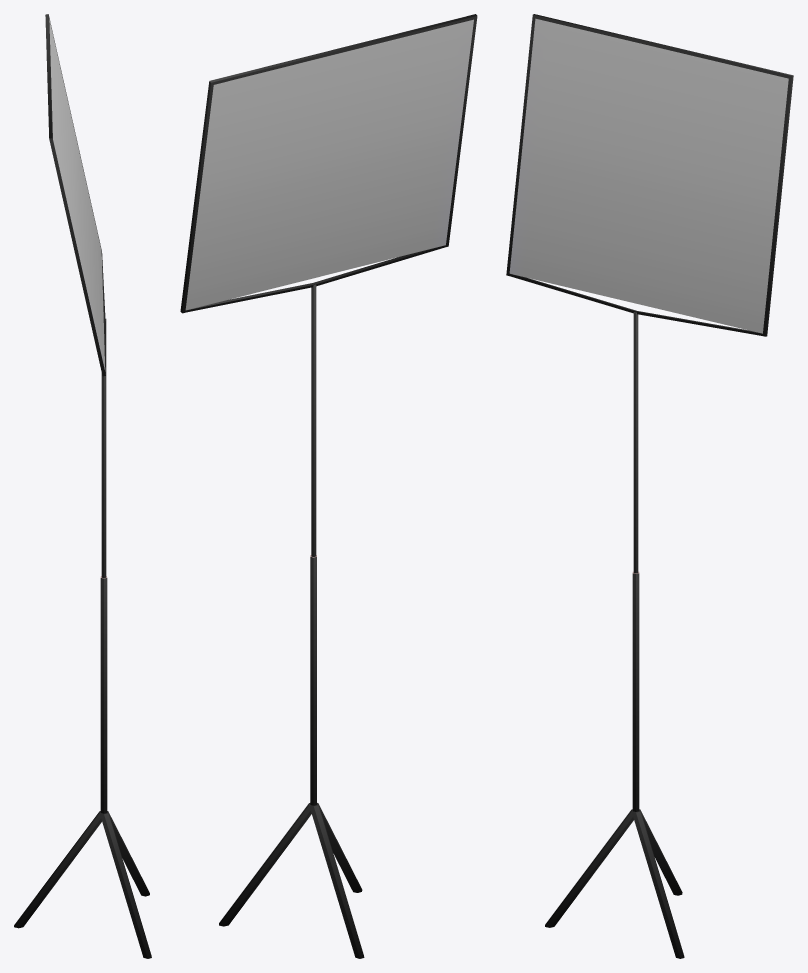
File: lamp_1.glb
3 views of the same model, side by side, from view 1: azimuth 30°, elevation 25°; view 2: azimuth 150°, elevation 25°; view 3: azimuth 270°, elevation 25° (orthographic). The views are drawn at different scales.
Visible parts, largest first — view 1: panelLight_body.003, panelLight.003, panelLight_upPart.003; view 2: panelLight_body.003, panelLight.003, panelLight_upPart.003; view 3: panelLight_body.003, panelLight.003, panelLight_upPart.003.
Part boxes in pixels (x1,y1,x2,y2): panelLight_body.003: [45, 14, 105, 376]; panelLight.003: [14, 576, 151, 958]; panelLight_upPart.003: [101, 318, 106, 577]; panelLight_body.003: [180, 14, 477, 313]; panelLight.003: [219, 555, 364, 958]; panelLight_upPart.003: [311, 284, 316, 556]; panelLight_body.003: [506, 14, 793, 336]; panelLight.003: [545, 571, 684, 958]; panelLight_upPart.003: [633, 312, 638, 573].
Size of the model in its own units: 0.7418 by 3.48 by 1.05.
Materials: 1 (1 with a texture image).
